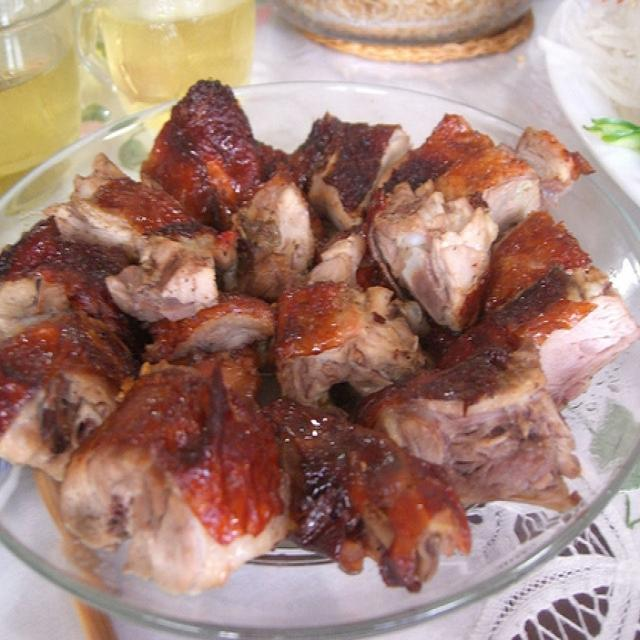烧串烤肉: (11, 61, 621, 625)
